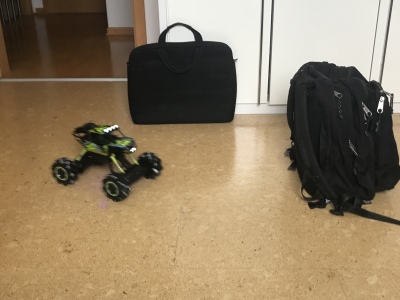remote control car: (48, 117, 165, 204)
